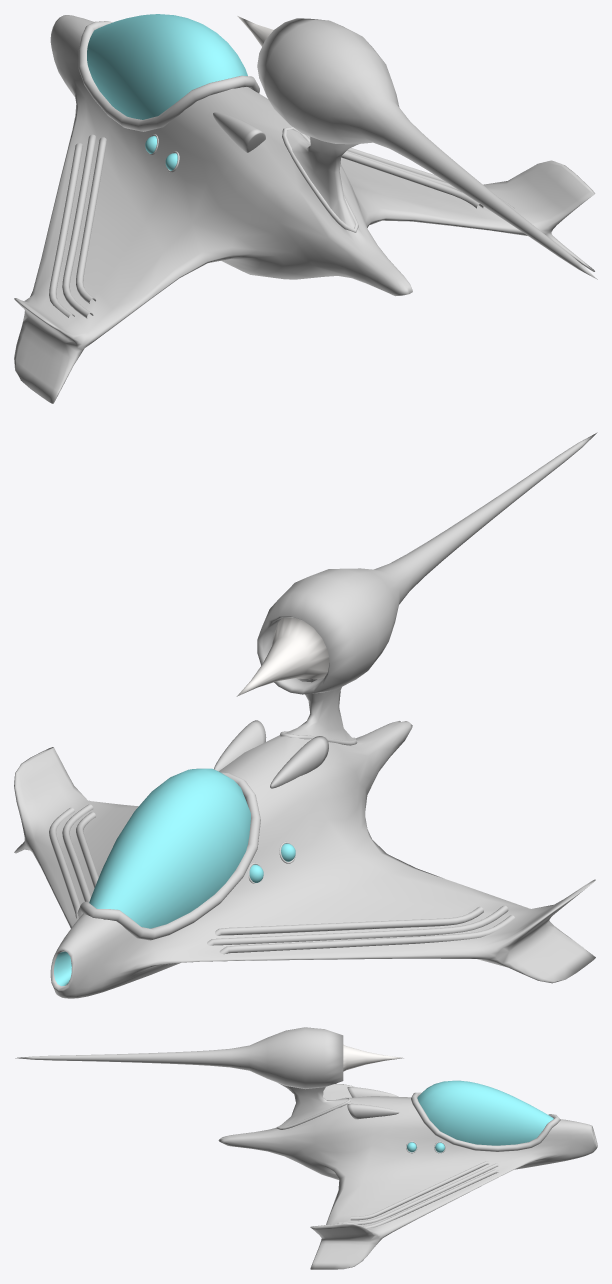
File: ship.fbx
The picture shows the model from 3 angles, top to bottom: view 1: azimuth 30°, elevation 25°; view 2: azimuth 150°, elevation 25°; view 3: azimuth 270°, elevation 25°; orthographic projection. The views are drawn at different scales.
Visible parts, largest first — view 1: p1_wedge_geo1; view 2: p1_wedge_geo1; view 3: p1_wedge_geo1.
Boxes of the visible parts, box(x1,y1,x2,y2) form: p1_wedge_geo1: box(14, 14, 597, 403); p1_wedge_geo1: box(14, 432, 597, 998); p1_wedge_geo1: box(15, 1027, 597, 1269).
Size of the model in its own units: 1854 by 1007 by 3176.
